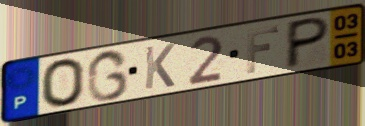2: (186, 33, 226, 88)
F: (245, 24, 281, 76)
G: (84, 48, 130, 103)
K: (143, 41, 178, 92)
O: (39, 56, 87, 109)
P: (282, 14, 333, 72)
